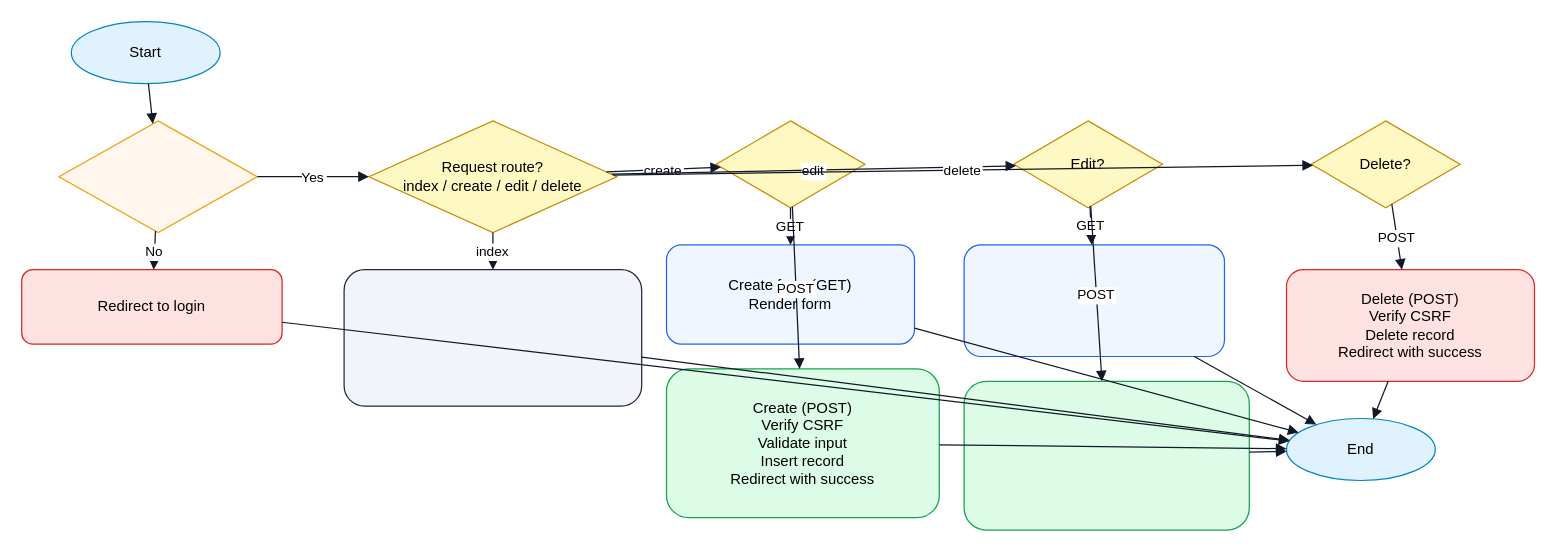
Some shapes in this 1556 by 552 pixel diagram are drawn without their labels. The centre of each missing label's shape, as x and y in pixels:
Check session (student logged in?): the point at 157,176
Create?: the point at 790,164
Edit (POST) Verify CSRF Validate input Update record Redirect with success: the point at 1106,455
Edit form (GET) Load record by ID Render form: the point at 1093,300
Index (GET) Read search/sort Fetch events by user Render list + KPIs: the point at 492,337
